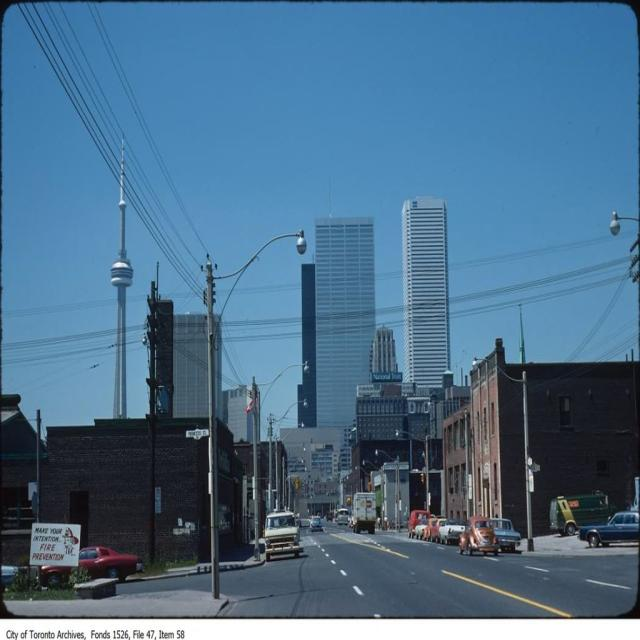car: (262, 504, 300, 562), (308, 515, 324, 534), (335, 510, 351, 524)
